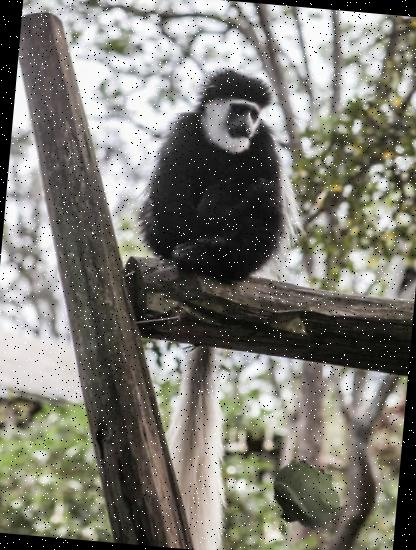Kohlrabi: (264, 455, 350, 540)
